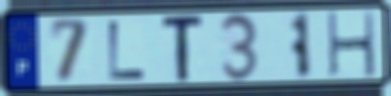1: (288, 9, 314, 82)
3: (218, 10, 261, 85)
7: (47, 17, 95, 86)
H: (325, 9, 378, 80)
L: (106, 19, 149, 82)
T: (160, 12, 207, 85)
